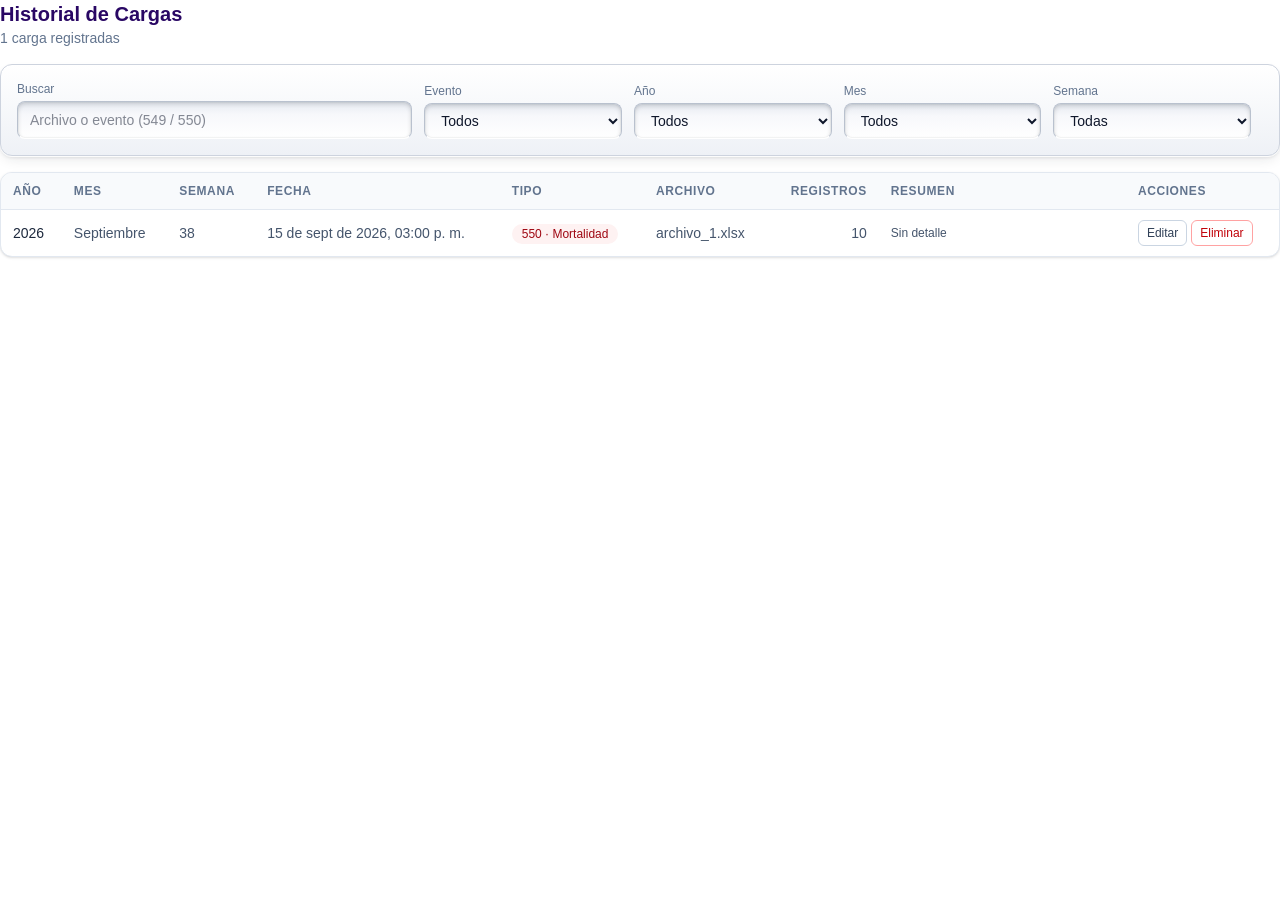
Scenario: UploadHistorySection › muestra el error del servidor al editar y mantiene el diálogo abierto
What coordinates should you click on to do the following:
click the button with aria-label "Editar archivo_1.xlsx"
I would click on:
 (1163, 233)
Its box is [1138,220,1187,246].
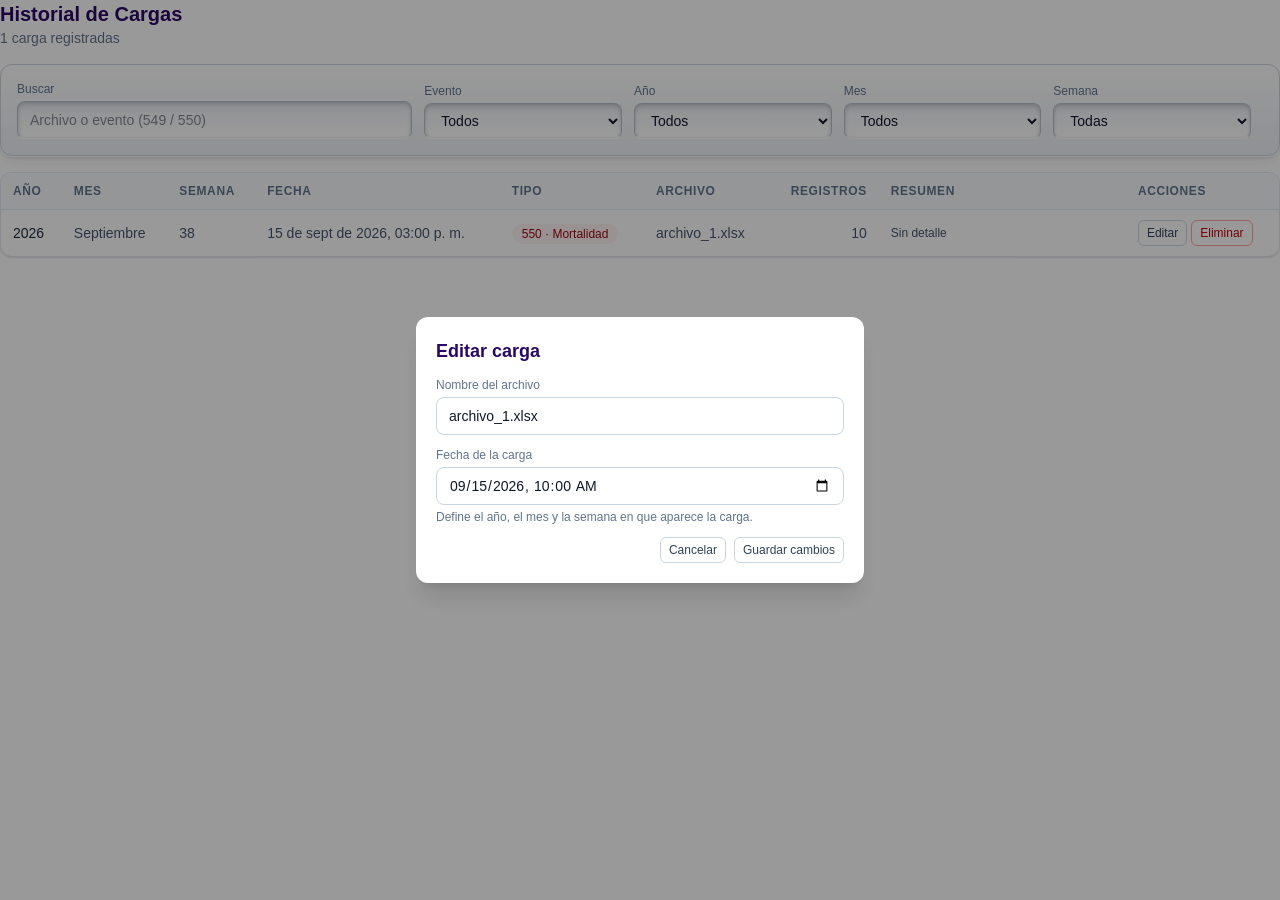
What coordinates should you click on to do the following:
click the button "Guardar cambios"
I would click on:
 (789, 550)
Its box is [734,537,844,563].
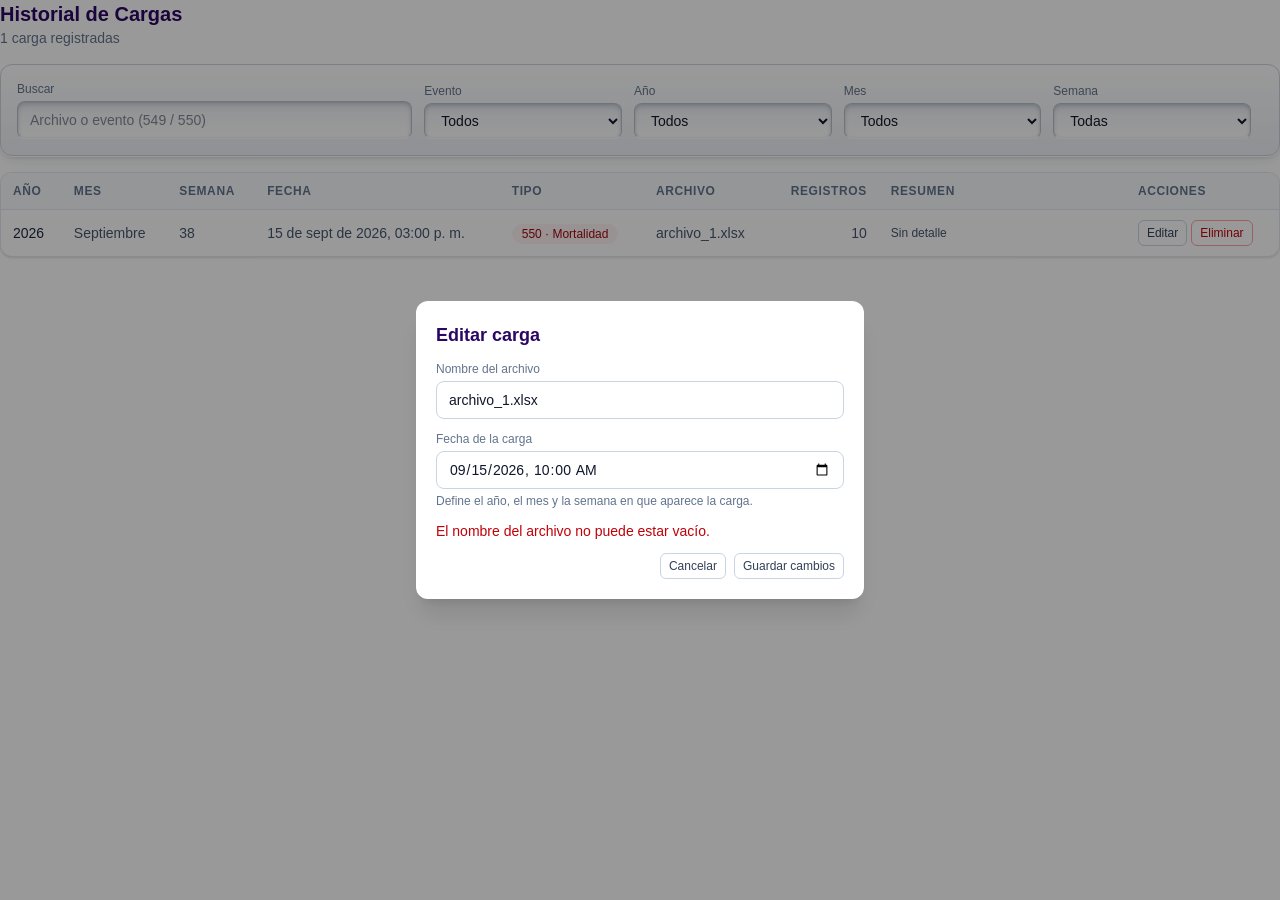
Expected: the dialog "Editar carga" is shown, [416,301,864,599]
Expected: the message shows "no puede estar vacío", [436,523,710,539]
